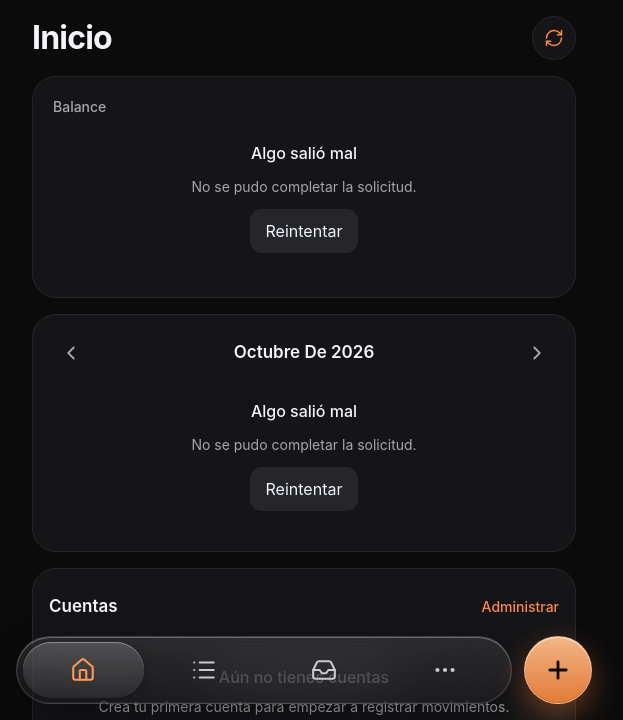
Test: session handling › signs out from the menu
Expected: the heading "Inicio" is shown, [32,19,112,57]
Click the link named "Más" at (445, 670), box [432,657,458,683]
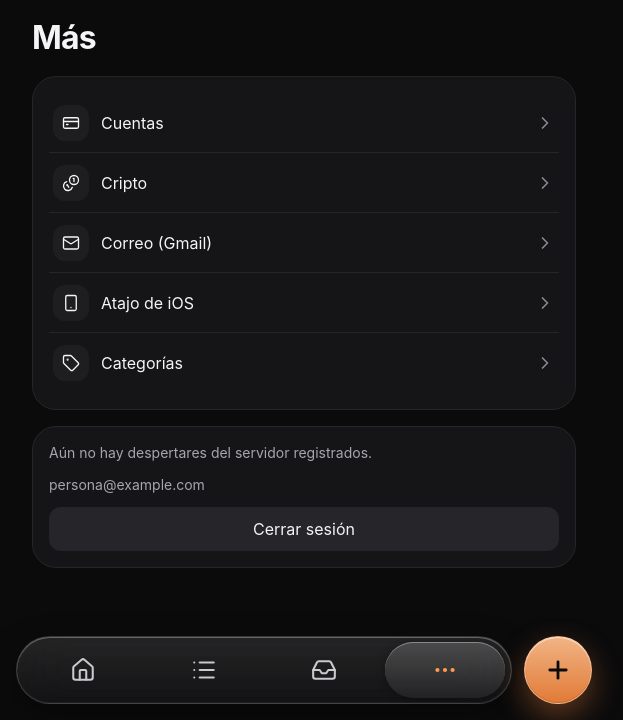
Click the button "Cerrar sesión" at (304, 529), box [49,507,559,551]
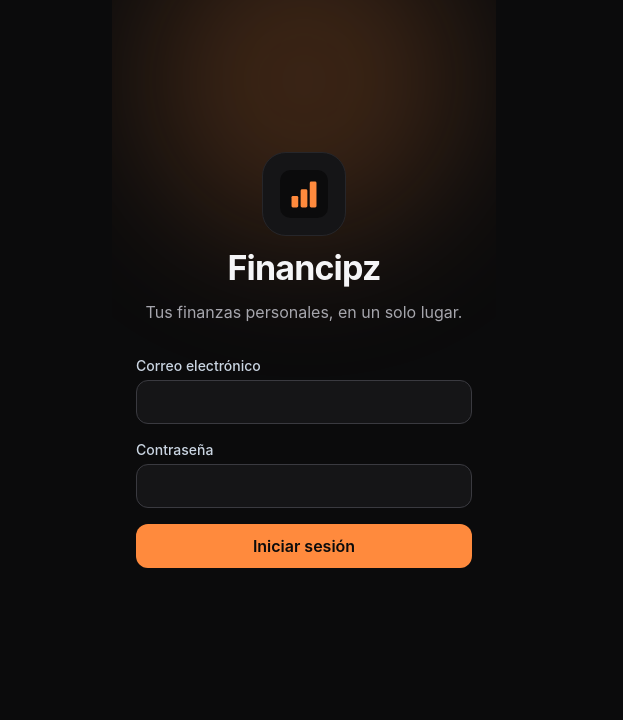
Expected: the button "Iniciar sesión" is shown, [136,524,472,568]
